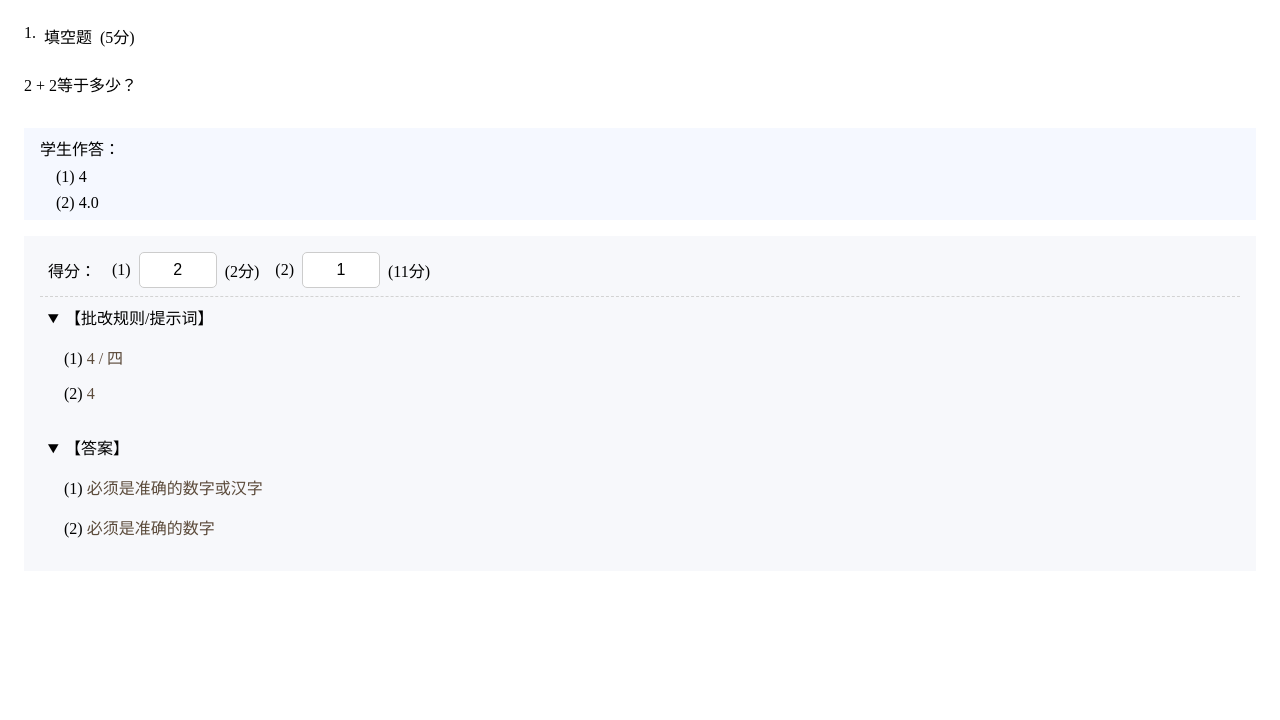
Test: QuestionGradingSection 组件测试 › 应阻止负分数输入（有批改记录）
This screenshot has width=1280, height=720.
#  尝试输入负数 
Replace the text in the number field with placeholder "输入得分" next to "(2分)" with "-1": (178, 270) left=139, top=252, right=217, bottom=288
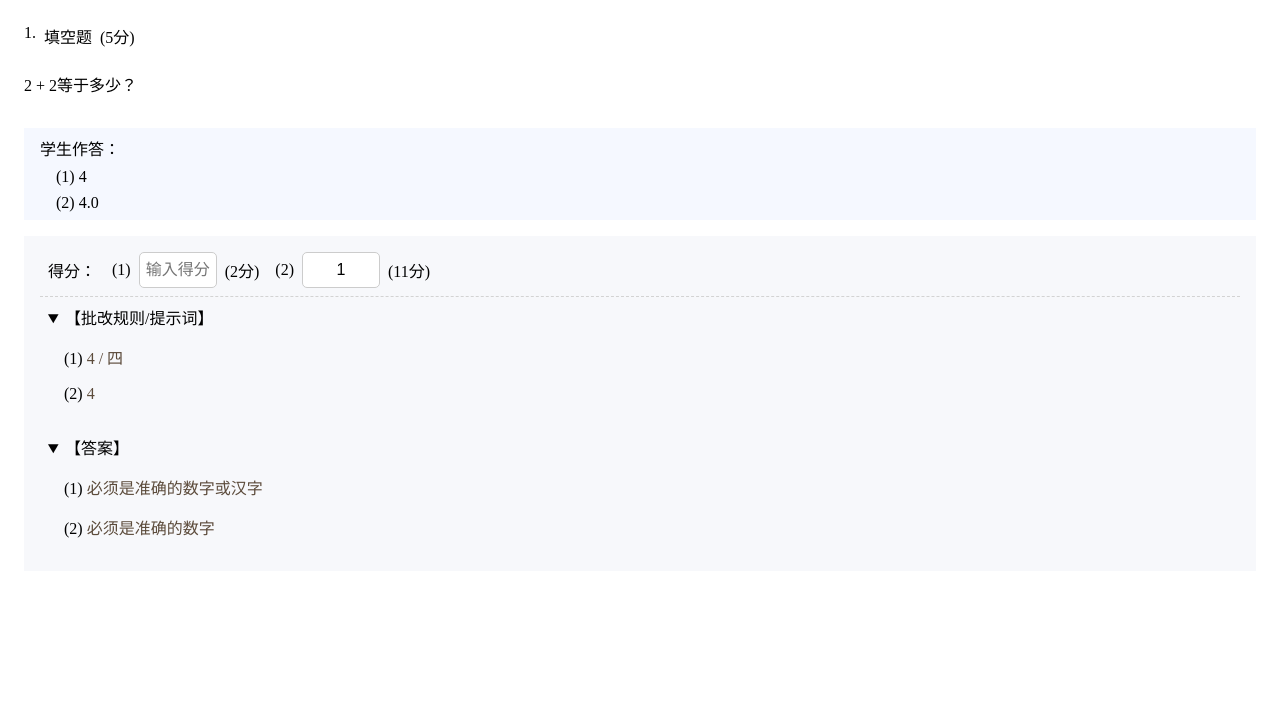
Result: the number field with placeholder "输入得分" is not empty at left=139, top=252, right=217, bottom=288
